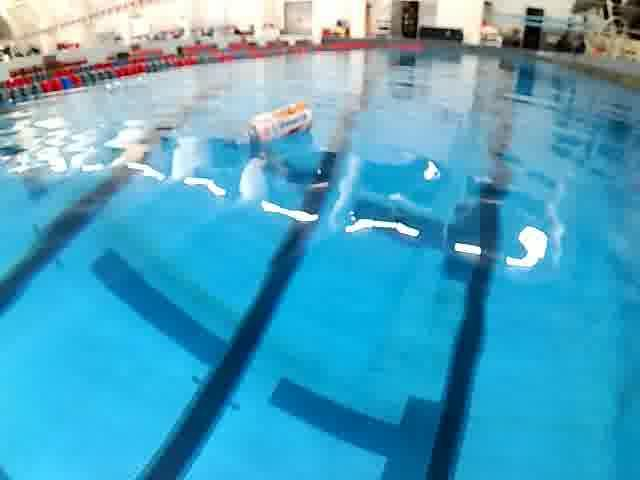Bottle: (228, 94, 318, 156)
